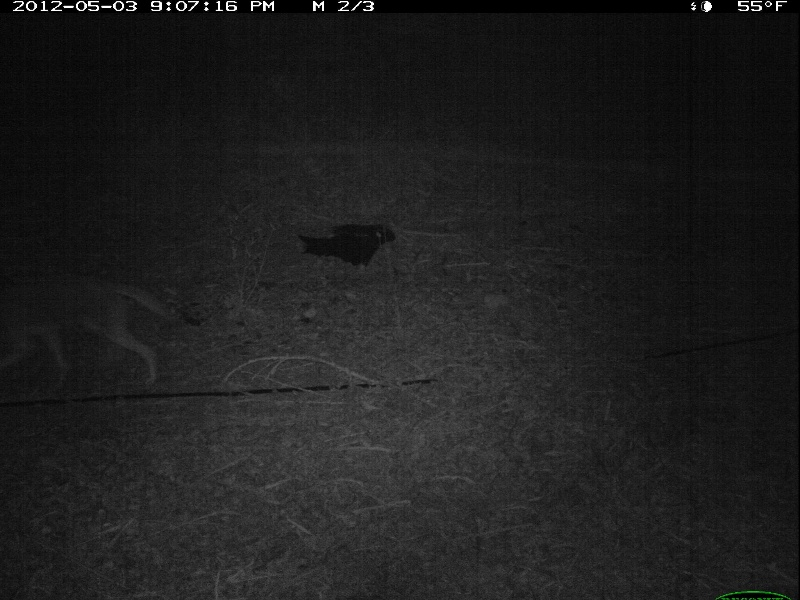coyote: (1, 262, 203, 400)
